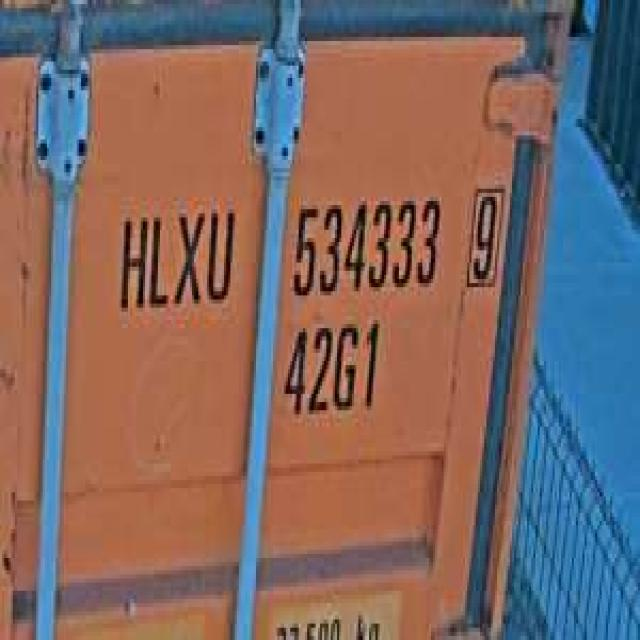dv: (460, 168, 506, 296)
owner: (113, 189, 239, 324)
serial: (286, 180, 444, 304)
size: (280, 312, 386, 426)
